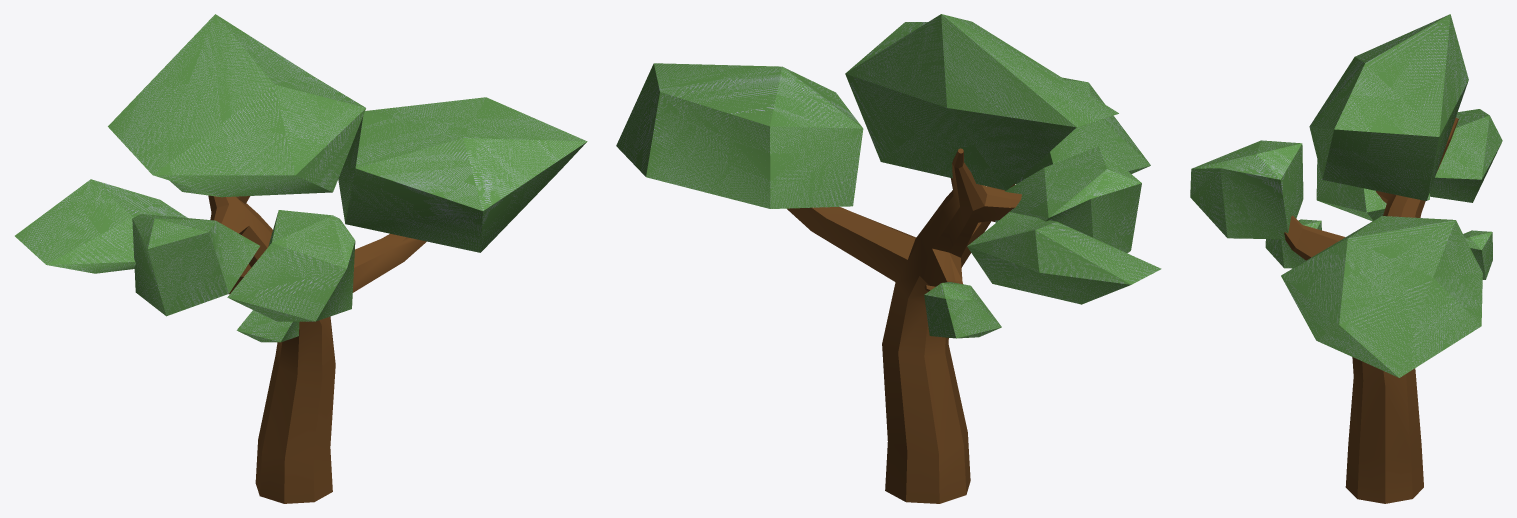
File: Tree_Asia_02.fbx
The picture shows the model from 3 angles, left to right: view 1: azimuth 30°, elevation 25°; view 2: azimuth 150°, elevation 25°; view 3: azimuth 270°, elevation 25°; orthographic projection. The views are drawn at different scales.
Parts seen in each view (by area): view 1: Model; view 2: Model; view 3: Model.
Part boxes in pixels (x1,y1,x2,y2): Model: [15, 14, 587, 503]; Model: [616, 14, 1161, 503]; Model: [1190, 14, 1502, 503].
Bounding box in the file's own units: 582 × 507 × 318.
